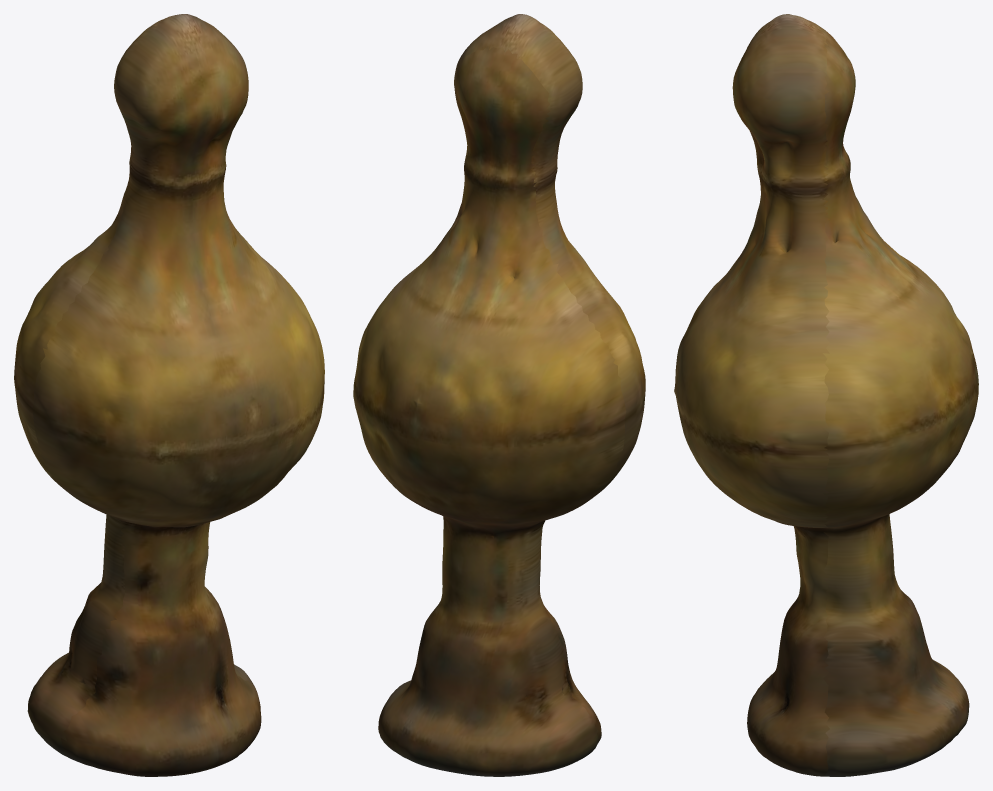
Rendered from kfl-2289.glb.
3 views of the same model, side by side, from view 1: azimuth 30°, elevation 25°; view 2: azimuth 150°, elevation 25°; view 3: azimuth 270°, elevation 25° (orthographic). The views are drawn at different scales.
Visible parts, largest first — view 1: geometry_0; view 2: geometry_0; view 3: geometry_0.
Boxes of the visible parts, <box> form: geometry_0: <box>14,14,324,776</box>; geometry_0: <box>353,14,645,776</box>; geometry_0: <box>674,14,978,776</box>.
Size of the model in its own units: 0.3743 by 0.9929 by 0.3765.
Materials: 1 (1 with a texture image).
